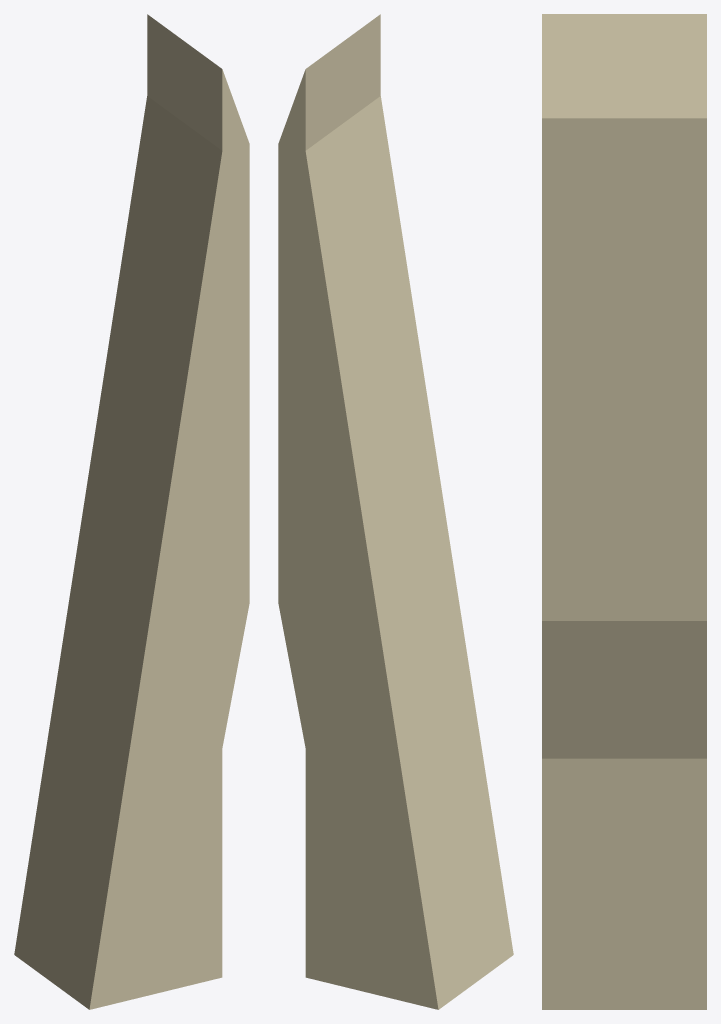
File: wallstud.glb
3 views of the same model, side by side, from view 1: azimuth 30°, elevation 25°; view 2: azimuth 150°, elevation 25°; view 3: azimuth 270°, elevation 25° (orthographic). The views are drawn at different scales.
Parts seen in each view (by area): view 1: wallStud; view 2: wallStud; view 3: wallStud.
Part boxes in pixels (box(x1,y1,x2,y2)): wallStud: box(14, 14, 249, 1009); wallStud: box(278, 14, 513, 1009); wallStud: box(542, 14, 706, 1009).
Bounding box in the file's own units: 2.05 × 11.1 × 1.67.
